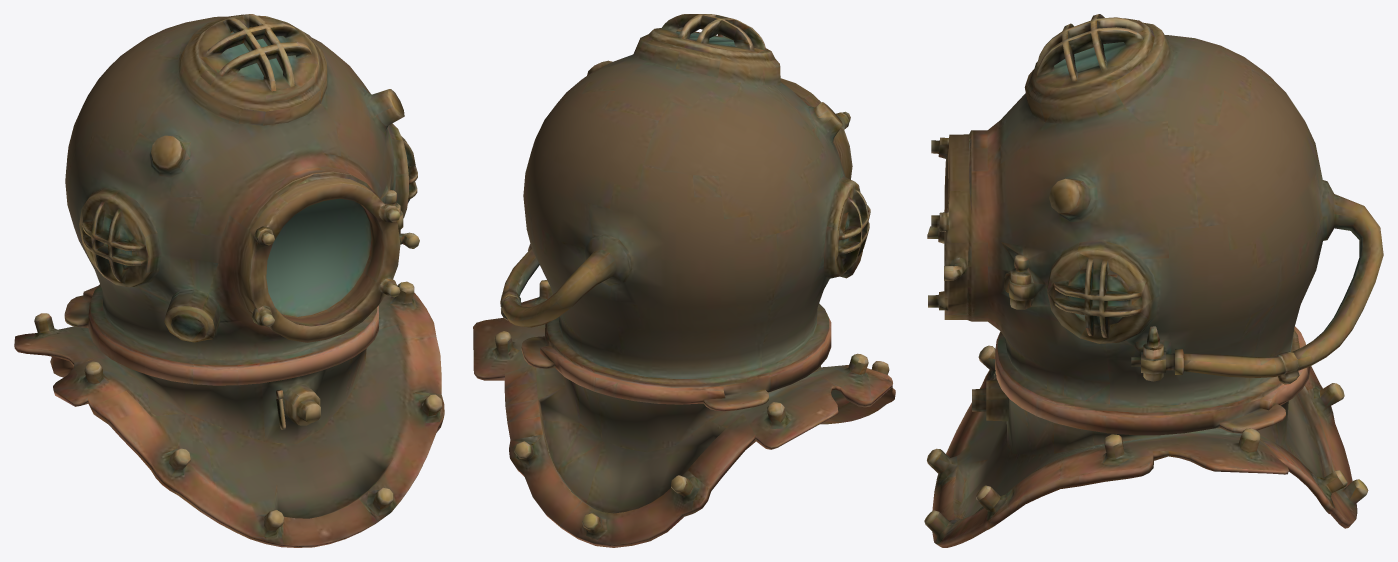
File: helmet.glb
The picture shows the model from 3 angles, left to right: view 1: azimuth 30°, elevation 25°; view 2: azimuth 150°, elevation 25°; view 3: azimuth 270°, elevation 25°; orthographic projection. The views are drawn at different scales.
Parts seen in each view (by area): view 1: tripo_node_852f72d8-1381-44f5-8aa5-314e3440a642; view 2: tripo_node_852f72d8-1381-44f5-8aa5-314e3440a642; view 3: tripo_node_852f72d8-1381-44f5-8aa5-314e3440a642.
Boxes of the visible parts, bbox=[...] form: tripo_node_852f72d8-1381-44f5-8aa5-314e3440a642: bbox=[14, 14, 444, 547]; tripo_node_852f72d8-1381-44f5-8aa5-314e3440a642: bbox=[473, 14, 895, 547]; tripo_node_852f72d8-1381-44f5-8aa5-314e3440a642: bbox=[924, 14, 1383, 547].
Bounding box in the file's own units: 0.8271 × 1 × 0.8222.
1 material, 1 textured.
